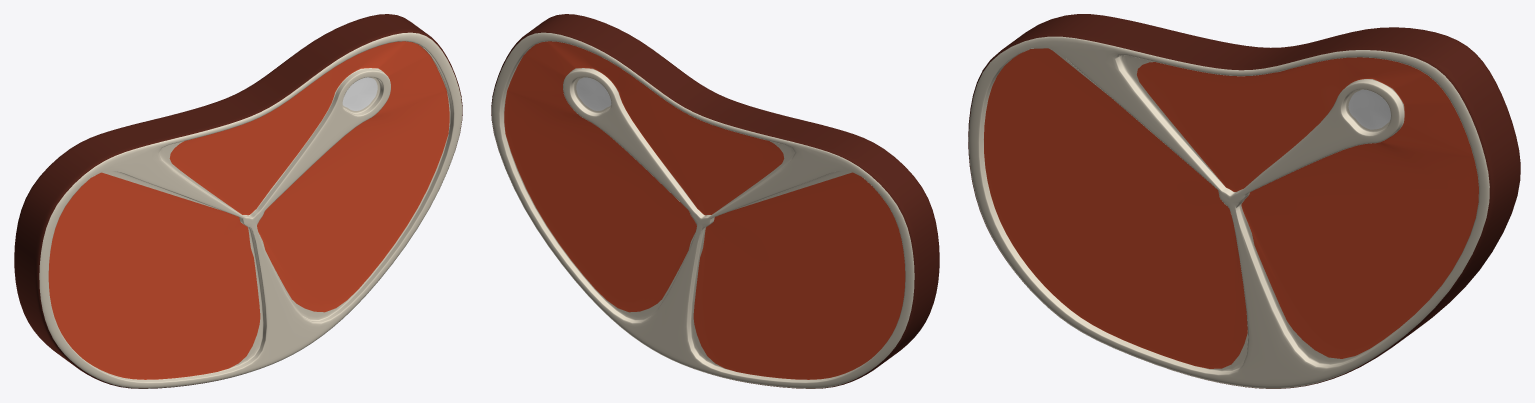
Rendered from Steak 1.fbx.
3 renders of one model, left to right at view 1: azimuth 30°, elevation 25°; view 2: azimuth 150°, elevation 25°; view 3: azimuth 330°, elevation 25°, orthographic. The views are drawn at different scales.
Parts seen in each view (by area): view 1: pCylinder1; view 2: pCylinder1; view 3: pCylinder1.
Part boxes in pixels (x1,y1,x2,y2): pCylinder1: (14,14,462,388); pCylinder1: (491,14,939,388); pCylinder1: (968,14,1520,388).
Size of the model in its own units: 5 by 3.43 by 0.5468.
